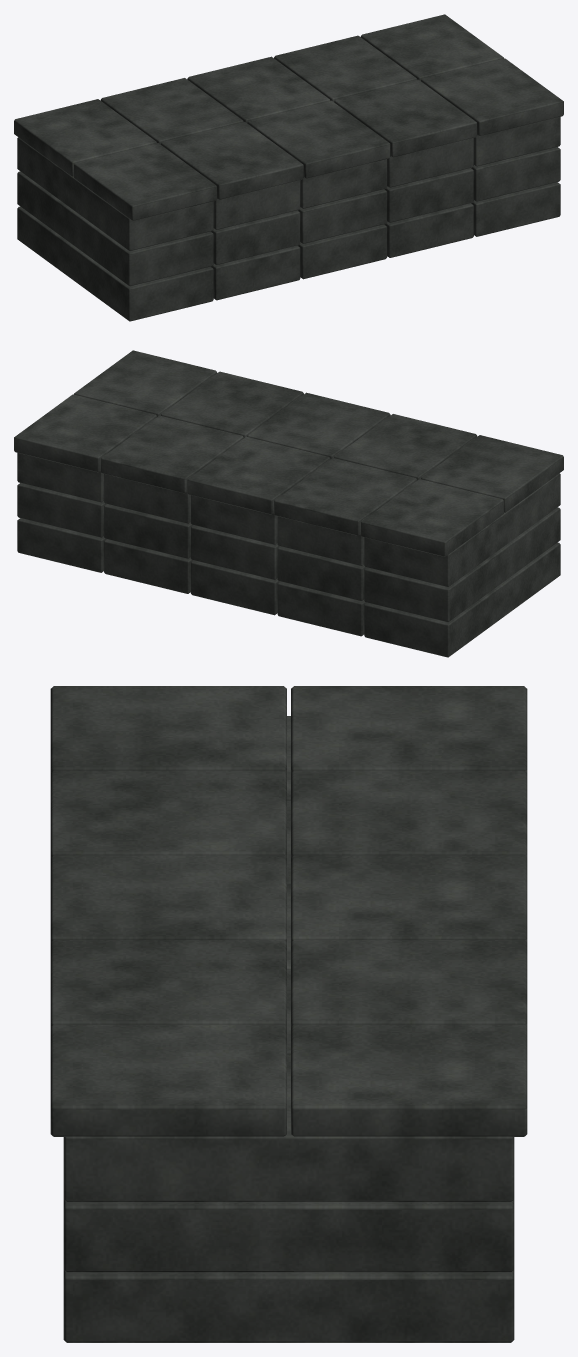
Rendered from stone-quay4m.glb.
3 renders of one model, top to bottom at view 1: azimuth 30°, elevation 25°; view 2: azimuth 150°, elevation 25°; view 3: azimuth 270°, elevation 25°, orthographic. The views are drawn at different scales.
Visible parts, largest first — view 1: Authored Salt stained quay stone; view 2: Authored Salt stained quay stone; view 3: Authored Salt stained quay stone.
Part boxes in pixels (x1,y1,x2,y2): Authored Salt stained quay stone: [14, 14, 563, 321]; Authored Salt stained quay stone: [14, 350, 563, 657]; Authored Salt stained quay stone: [50, 686, 527, 1342].
Bounding box in the file's own units: 3.99 × 1.05 × 1.9.
Materials: 1 (1 with a texture image).
